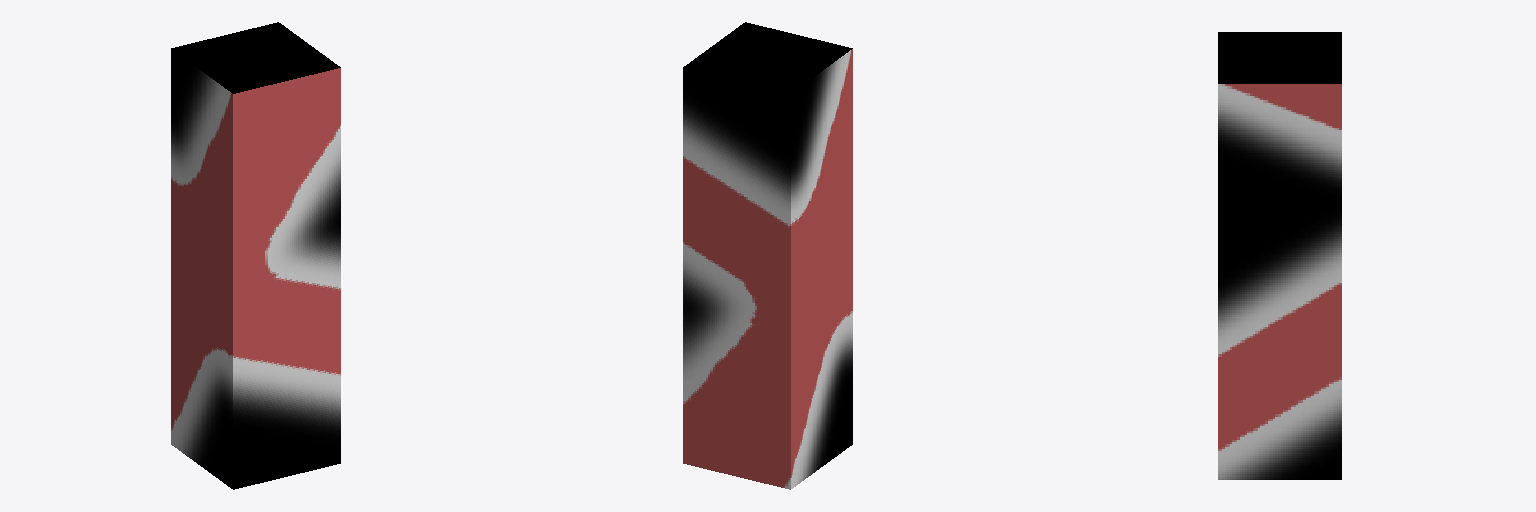
The picture shows the model from 3 angles: view 1: azimuth 30°, elevation 25°; view 2: azimuth 150°, elevation 25°; view 3: azimuth 270°, elevation 25°; orthographic projection.
Parts seen in each view (by area): view 1: 右太もも; view 2: 右太もも; view 3: 右太もも.
Part boxes in pixels (left/top/right/bottom): 右太もも: left=171, top=22, right=340, bottom=489; 右太もも: left=683, top=22, right=852, bottom=489; 右太もも: left=1218, top=32, right=1341, bottom=479.
Bounding box in the file's own units: 3 × 10.5 × 3.
1 materials, 1 textured.